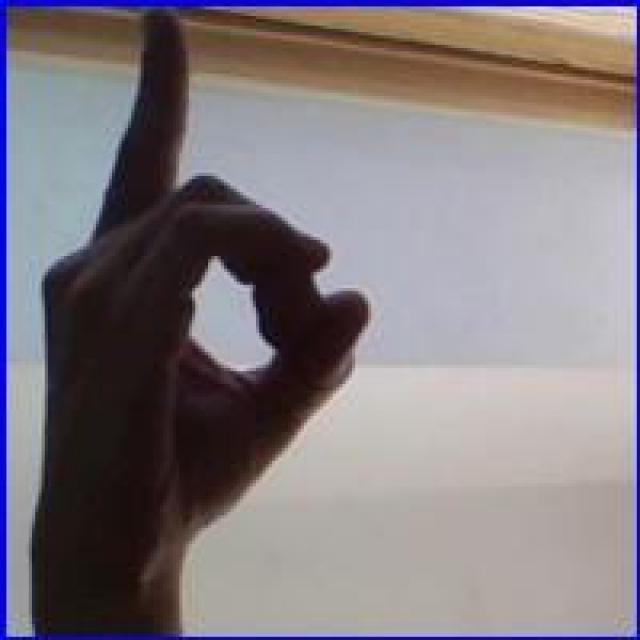D: (34, 8, 372, 606)
